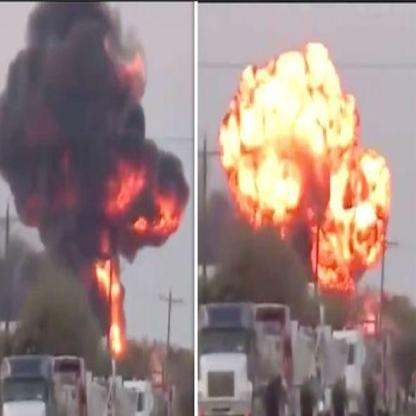fire: (214, 32, 398, 306), (87, 144, 187, 365)
